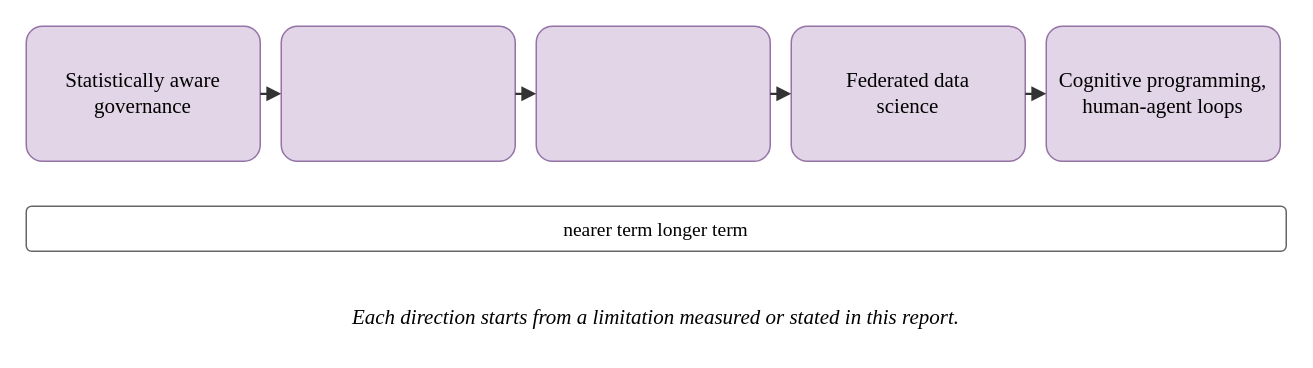
This 1313x368 diagram has some shape labels left out. Here are the shapes that lost their labels. From the top down, the centre of each, then its label:
At (397,93): "LLM-assisted programming in gates".
At (652,93): "Self-evolving pipelines".
